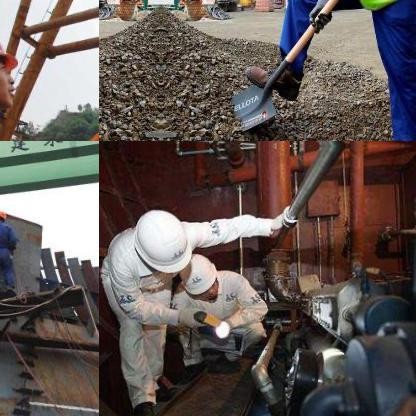Helmet: (128, 206, 192, 282), (0, 11, 22, 116), (177, 252, 223, 302), (0, 208, 5, 226)
